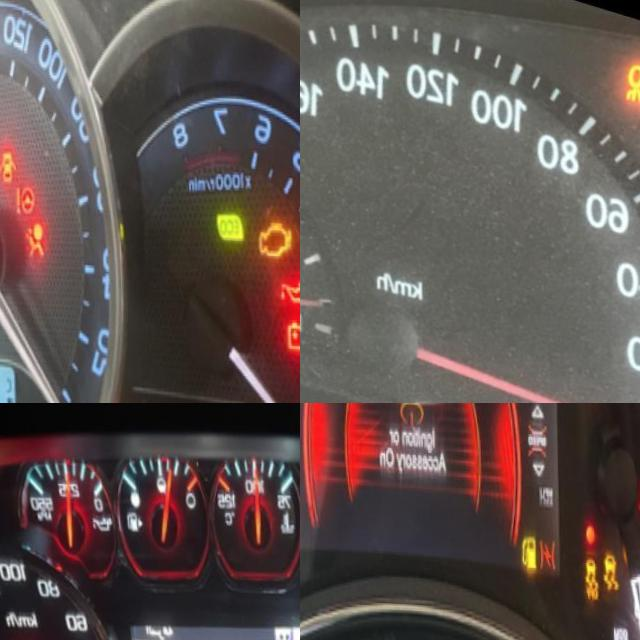Electronic Power Steering: (9, 175, 38, 216)
Seat Belt: (633, 467, 640, 519)
